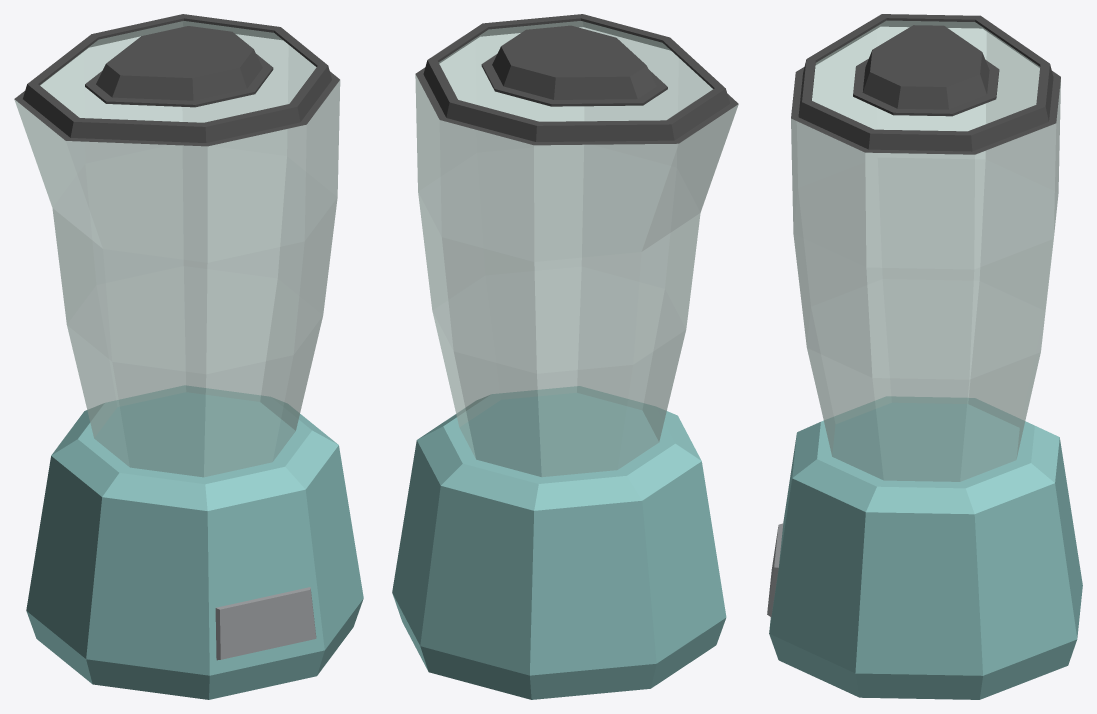
File: licuadora.fbx
3 views of the same model, side by side, from view 1: azimuth 30°, elevation 25°; view 2: azimuth 150°, elevation 25°; view 3: azimuth 270°, elevation 25° (orthographic).
Parts seen in each view (by area): view 1: Cylinder; view 2: Cylinder; view 3: Cylinder.
Part boxes in pixels (x1,y1,x2,y2): Cylinder: [14, 14, 363, 699]; Cylinder: [392, 14, 738, 699]; Cylinder: [767, 14, 1082, 699].
Size of the model in its own units: 484 by 921 by 460.
